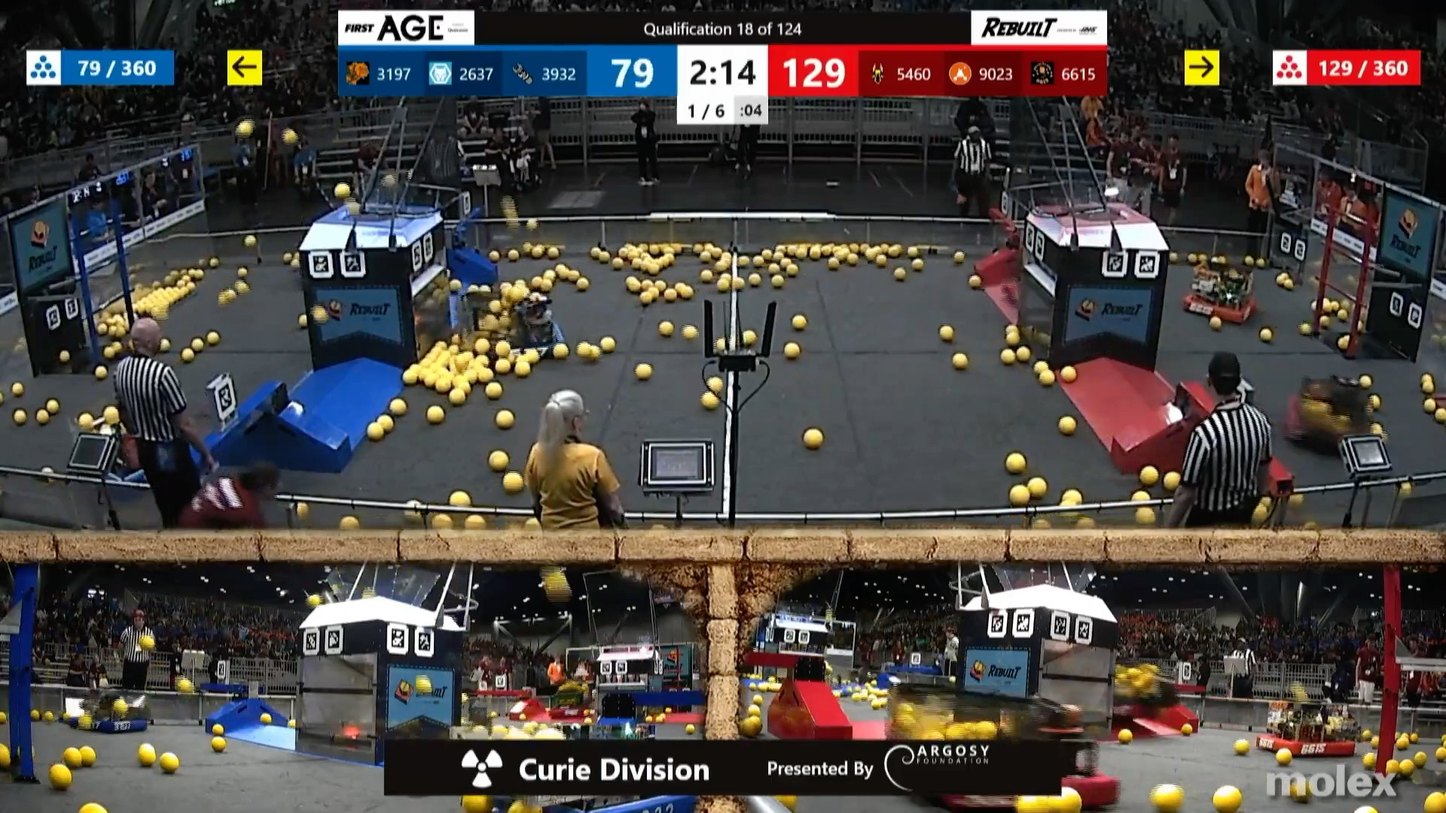bumpers: (1288, 386, 1380, 454), (453, 309, 571, 358), (1249, 724, 1359, 764), (1173, 285, 1264, 327), (71, 703, 160, 736)
